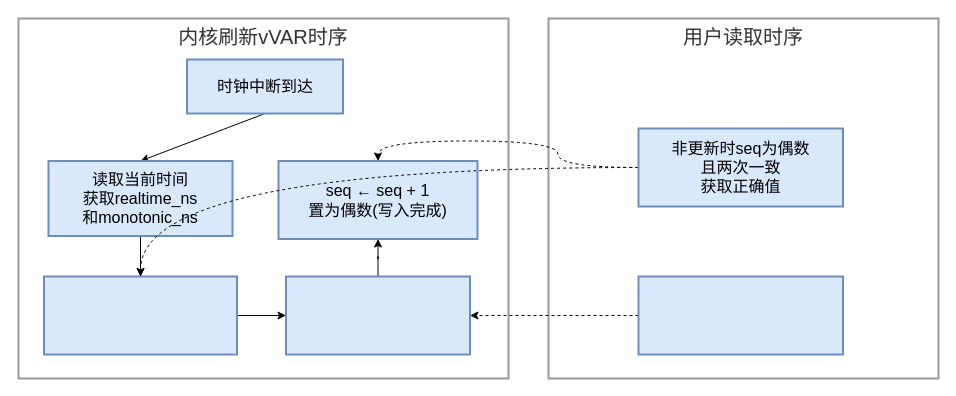
Image size: 956x396. Some labels were removed from this diagram. Each missing label, with the centre of its shape:
"seq ← seq + 1 | 1 置为奇数(写入中)" goes at point 140,315.
"写入realtime_ns 和monotonic_ns" goes at point 377,315.
"此时读取 seq为奇数或 seq前后不一致" goes at point 740,315.
